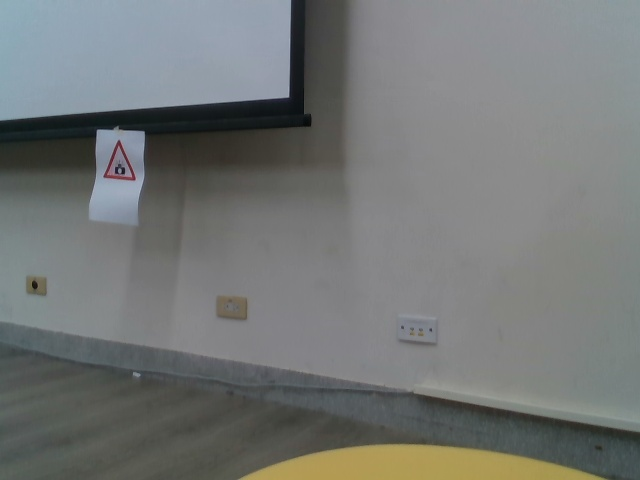camera: (103, 138, 137, 187)
